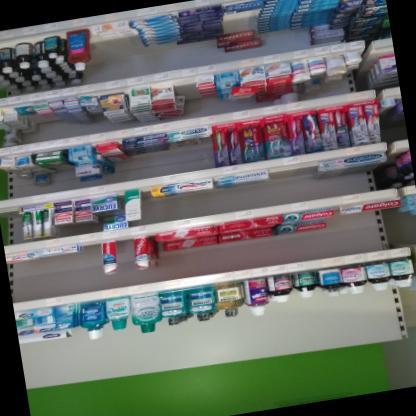empty_space: (273, 164, 316, 203), (92, 32, 138, 56), (0, 208, 25, 241), (79, 242, 101, 277), (114, 238, 135, 273), (138, 188, 155, 217), (175, 80, 194, 97)
